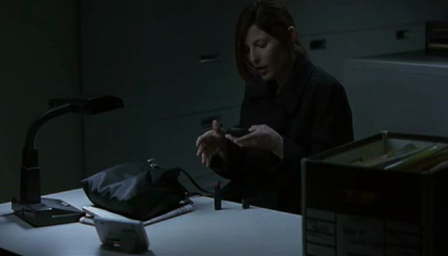face: (241, 33, 276, 80)
ms: (1, 1, 448, 256)
person: (196, 1, 354, 216)
